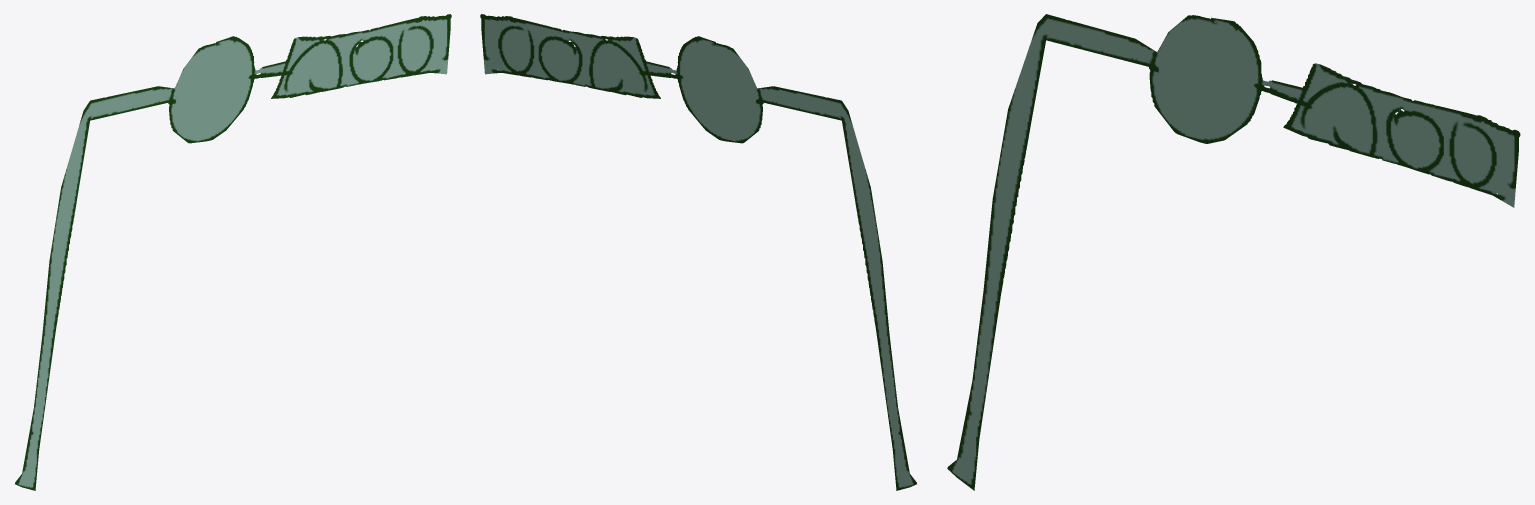
The model's file is TrafficLight_01.fbx.
The picture shows the model from 3 angles, left to right: view 1: azimuth 30°, elevation 25°; view 2: azimuth 150°, elevation 25°; view 3: azimuth 330°, elevation 25°; orthographic projection. The views are drawn at different scales.
Visible parts, largest first — view 1: 紅綠燈_01; view 2: 紅綠燈_01; view 3: 紅綠燈_01.
Boxes of the visible parts, <box> form: 紅綠燈_01: <box>15,14,451,490</box>; 紅綠燈_01: <box>480,14,916,490</box>; 紅綠燈_01: <box>947,14,1520,490</box>.
Bounding box in the file's own units: 292 × 259 × 3.09e-05.
1 material, 1 textured.
